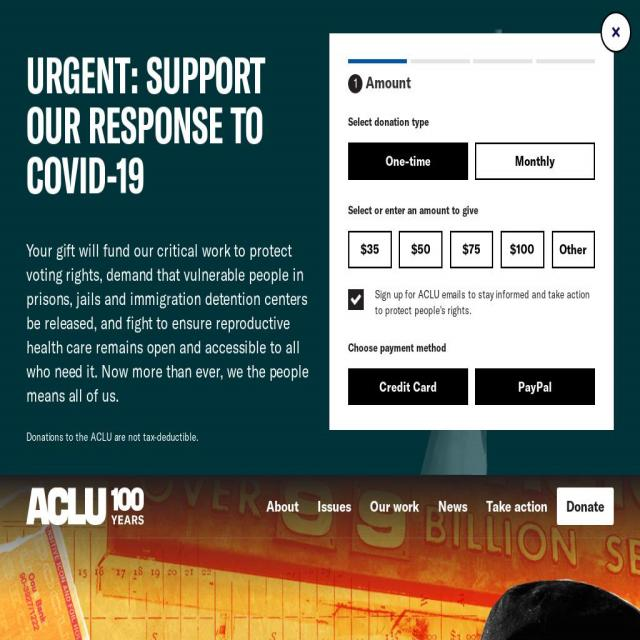form: (332, 35, 612, 427)
navigation-links: (263, 483, 626, 530)
